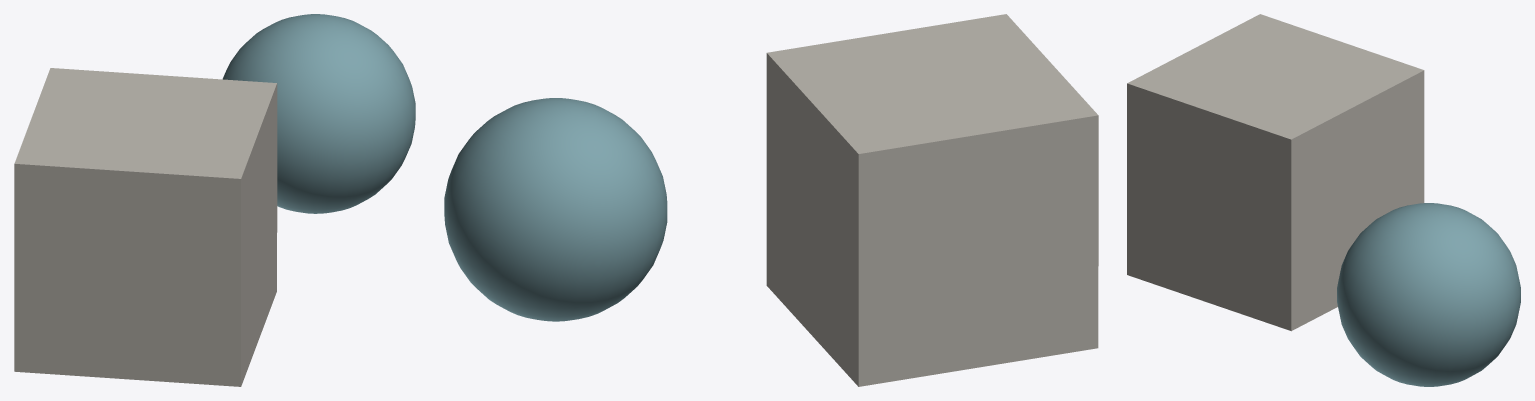
File: CornellBox-Glossy.obj
The picture shows the model from 3 angles, left to right: view 1: azimuth 30°, elevation 25°; view 2: azimuth 150°, elevation 25°; view 3: azimuth 270°, elevation 25°; orthographic projection. The views are drawn at different scales.
Visible parts, largest first — view 1: shortBox, sphere; view 2: shortBox, sphere; view 3: shortBox, sphere.
Part boxes in pixels (x1=…): shortBox: x1=14, y1=68, x2=277, y2=386; sphere: x1=222, y1=14, x2=415, y2=213; shortBox: x1=766, y1=14, x2=1098, y2=386; sphere: x1=444, y1=98, x2=667, y2=321; shortBox: x1=1127, y1=14, x2=1424, y2=331; sphere: x1=1337, y1=203, x2=1520, y2=386.
Size of the model in its own units: 1.75 by 0.7242 by 1.35.
